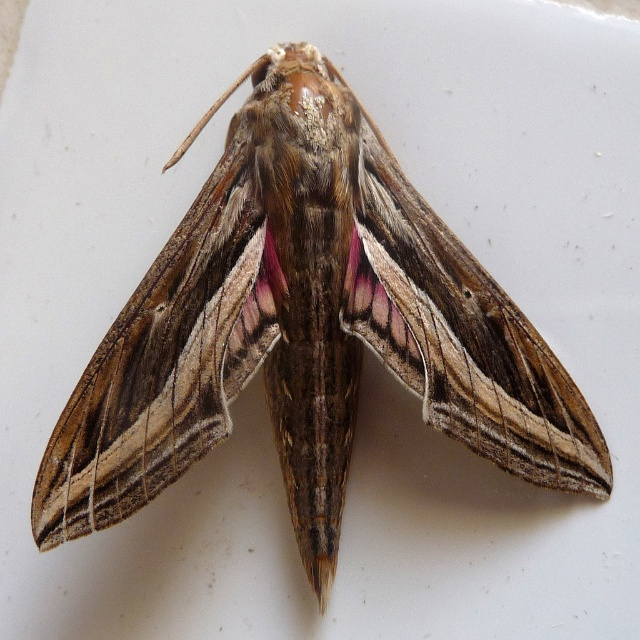Moths and butterflies: (31, 41, 615, 615)
